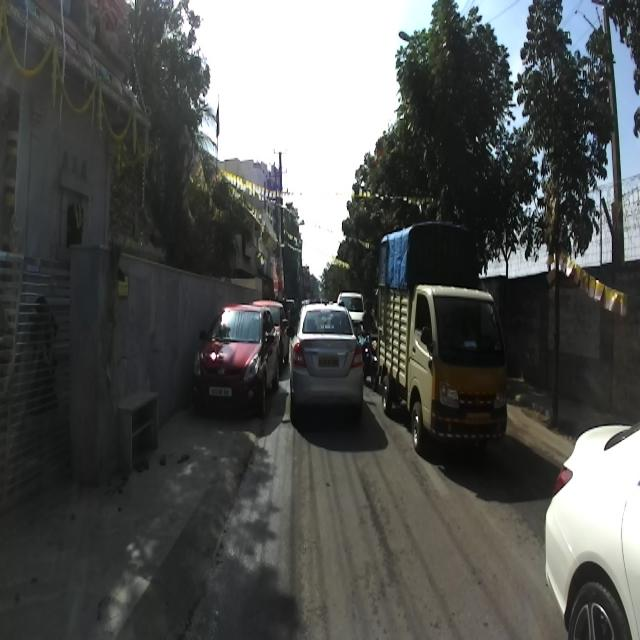car: (543, 418, 639, 639), (192, 303, 279, 417), (287, 300, 363, 422)
truck: (374, 211, 519, 467)
